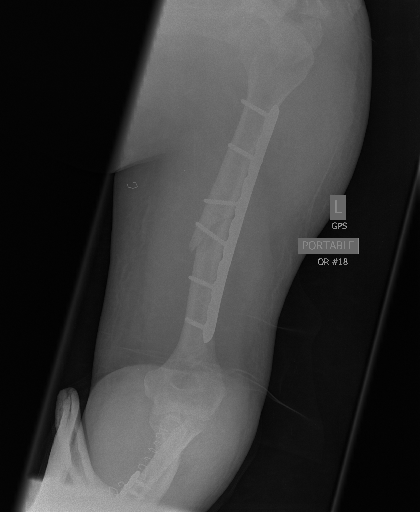implant: (184, 97, 281, 339)
